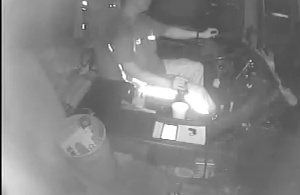cup: (170, 100, 189, 119)
